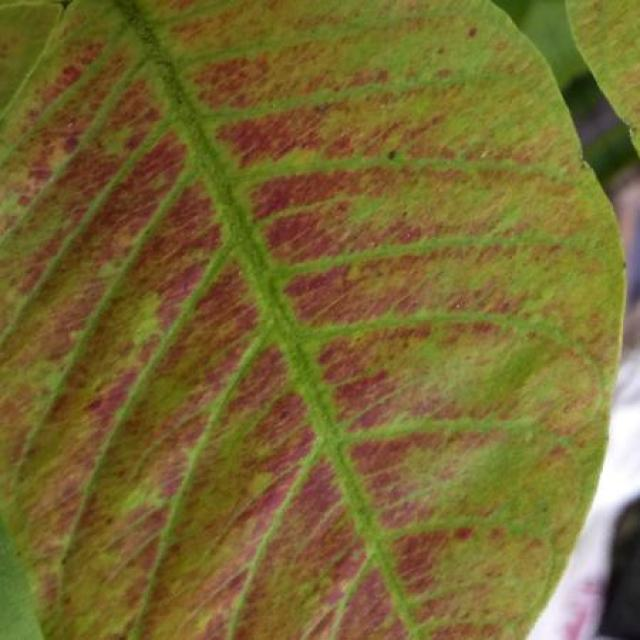Red Rust: (0, 0, 622, 639)
